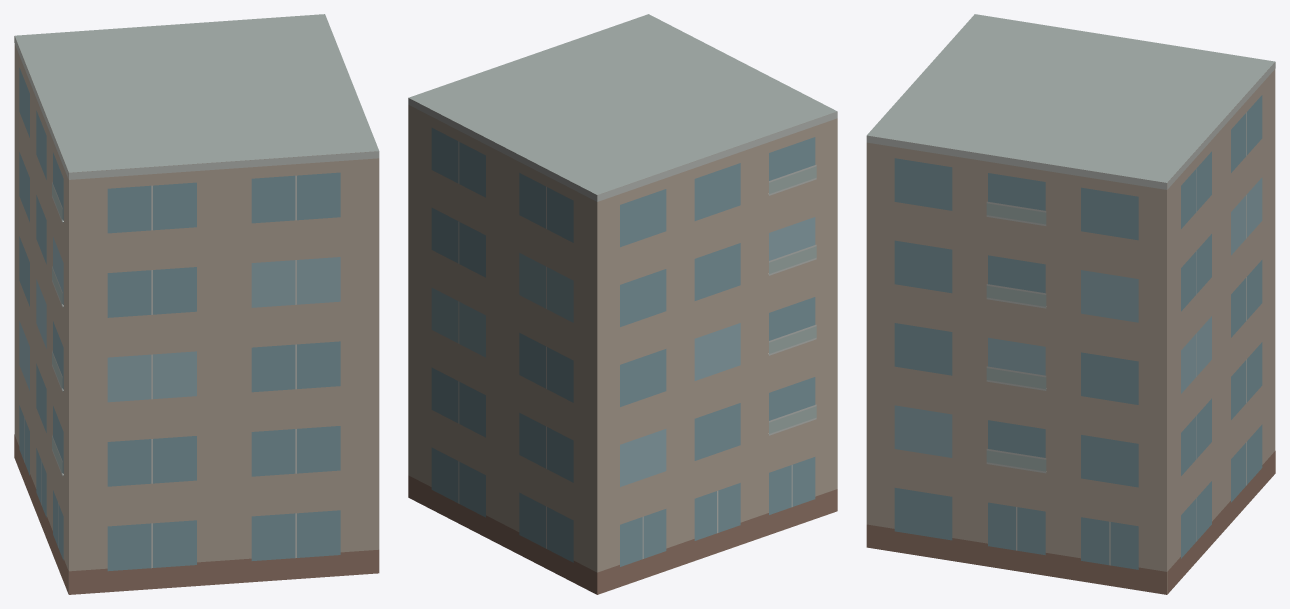
File: survey-upis-32795742.glb
3 views of the same model, side by side, from view 1: azimuth 30°, elevation 25°; view 2: azimuth 150°, elevation 25°; view 3: azimuth 270°, elevation 25° (orthographic). The views are drawn at different scales.
Visible parts, largest first — view 1: survey-upis-32795742.tmp; view 2: survey-upis-32795742.tmp; view 3: survey-upis-32795742.tmp.
Part boxes in pixels (x1,y1,x2,y2): survey-upis-32795742.tmp: [14, 14, 379, 594]; survey-upis-32795742.tmp: [408, 14, 837, 594]; survey-upis-32795742.tmp: [866, 14, 1275, 594].
Size of the model in its own units: 12.5 by 14.2 by 12.78.
